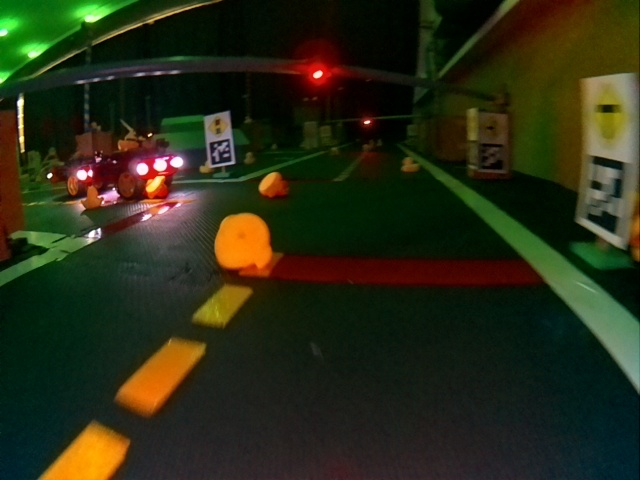Duckie: (216, 215, 271, 268), (258, 172, 287, 198), (146, 177, 168, 198), (84, 186, 103, 209), (119, 134, 139, 151), (402, 156, 420, 172), (200, 162, 214, 173), (244, 152, 255, 164)
Duckiebot: (48, 146, 183, 201)
Intersection sign: (585, 79, 630, 149), (479, 113, 507, 141)
QR code: (208, 140, 233, 165), (480, 145, 504, 169), (466, 140, 477, 169)
Signal sign: (206, 114, 231, 138)
Traffic light: (309, 65, 328, 85)
